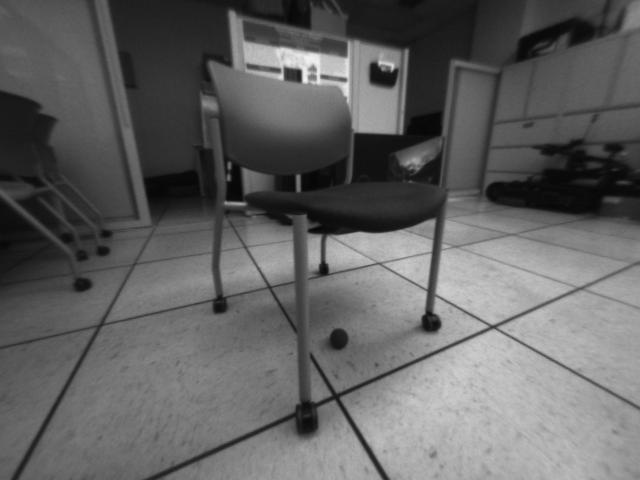dogtoy: (322, 322, 358, 354)
